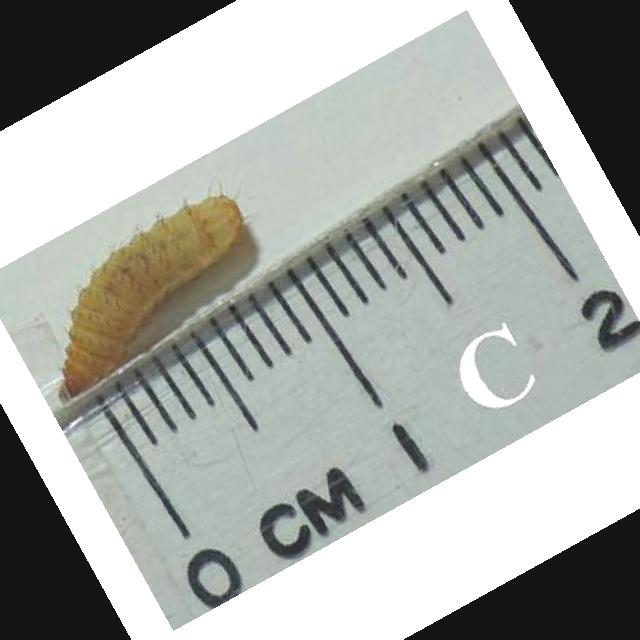Maggot: (57, 188, 245, 396)
